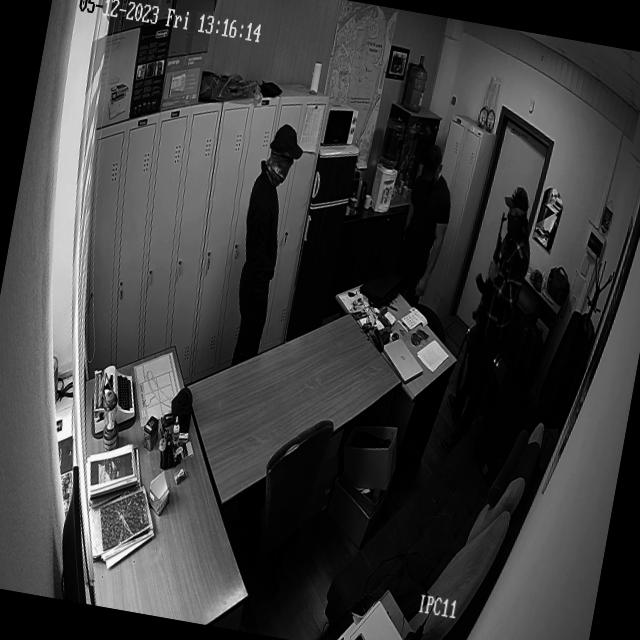gun: (466, 210, 507, 345)
person: (235, 118, 312, 289), (398, 142, 453, 259)
person with a gun: (458, 174, 540, 384)
